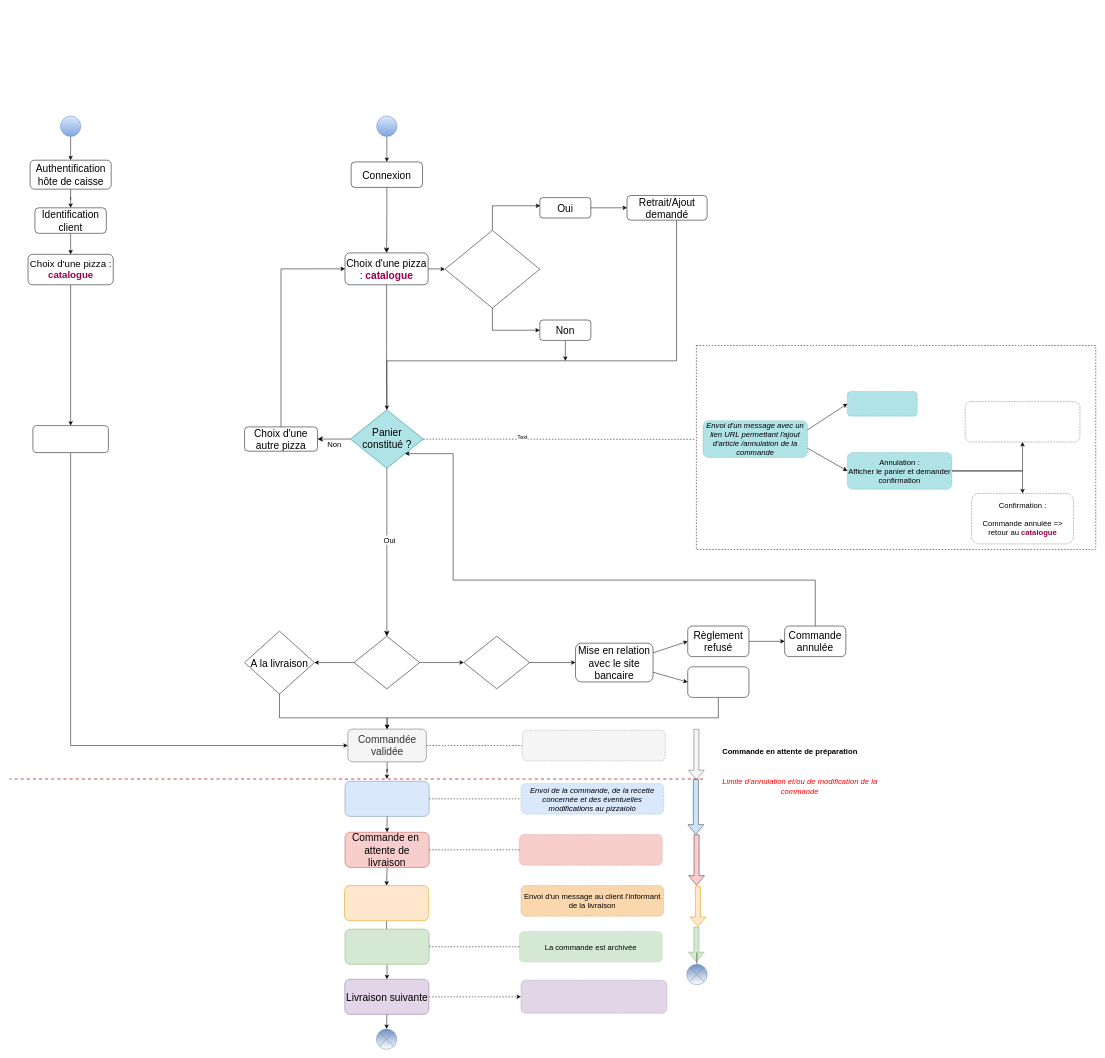
Some shapes in this 1105 by 1058 pixel diagram are drawn without their labels. Each missing label, with the centre of its shape:
Ajout ou retrait d'ingrédient ?: point (492, 269)
Commande en livraison: point (386, 903)
Commande en préparation: point (387, 798)
Commande livrée: point (387, 946)
En ligne: point (496, 662)
Envoi de la prochaine adresse de livraison au livreur: point (593, 996)
Génération du QR Code (n° de commande): point (593, 745)
Modification: Ajout de pizza: point (882, 403)
Panier constitué: point (70, 439)
Pas de confirmation : Message "commande confirmée" => retour au règlement: point (1022, 421)
Règlement: point (386, 662)
Règlement accepté: point (718, 681)
